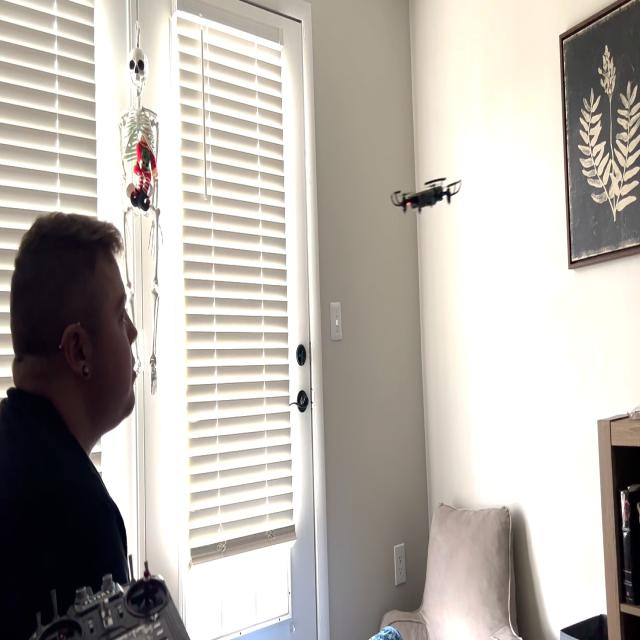drone: (386, 167, 466, 220)
